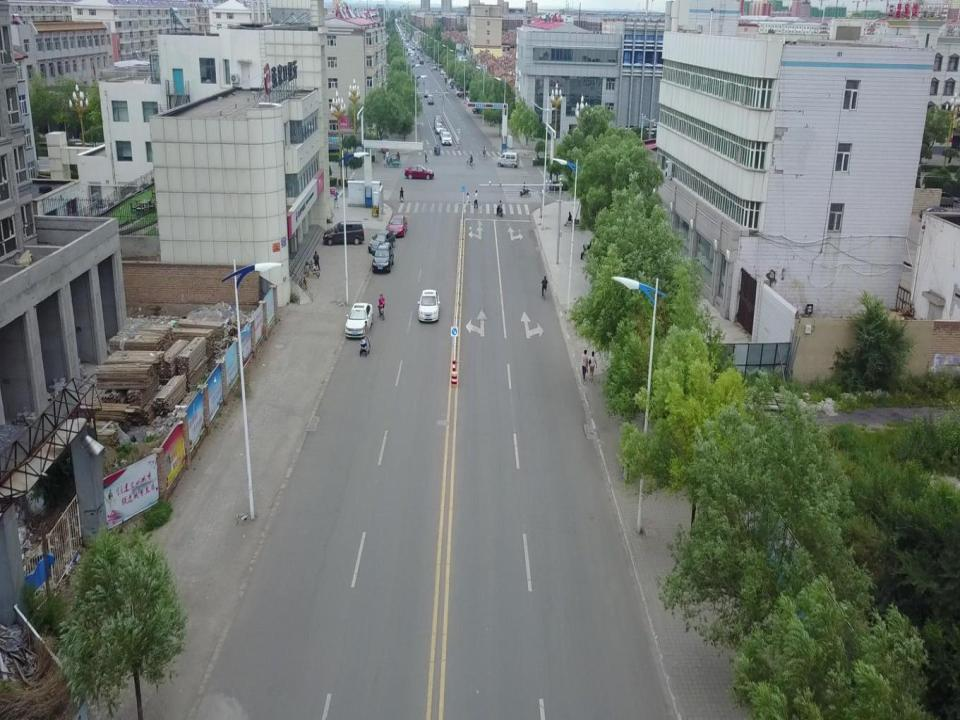car: (344, 302, 374, 338), (417, 289, 441, 322), (372, 242, 394, 273), (368, 230, 394, 252), (388, 215, 408, 236), (441, 132, 452, 145), (439, 129, 448, 141), (435, 122, 443, 133), (434, 119, 442, 128), (428, 94, 434, 105), (435, 116, 441, 124), (424, 89, 429, 98)
van: (323, 220, 364, 246), (496, 152, 520, 166)
